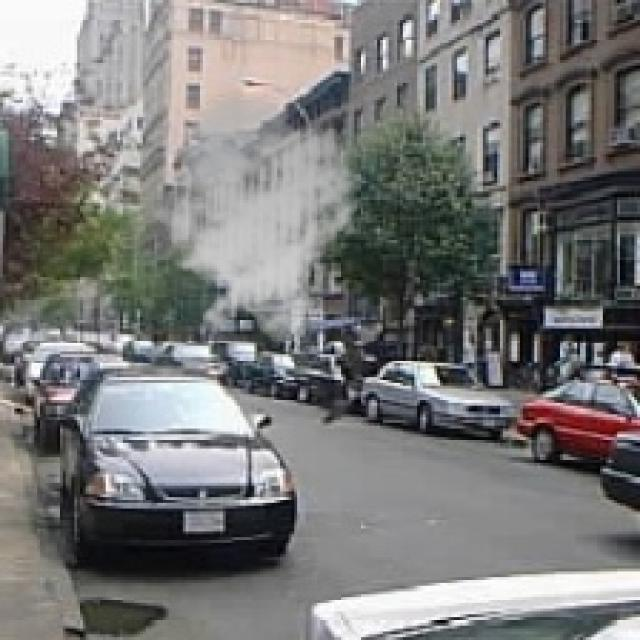smoke: (140, 91, 371, 346)
